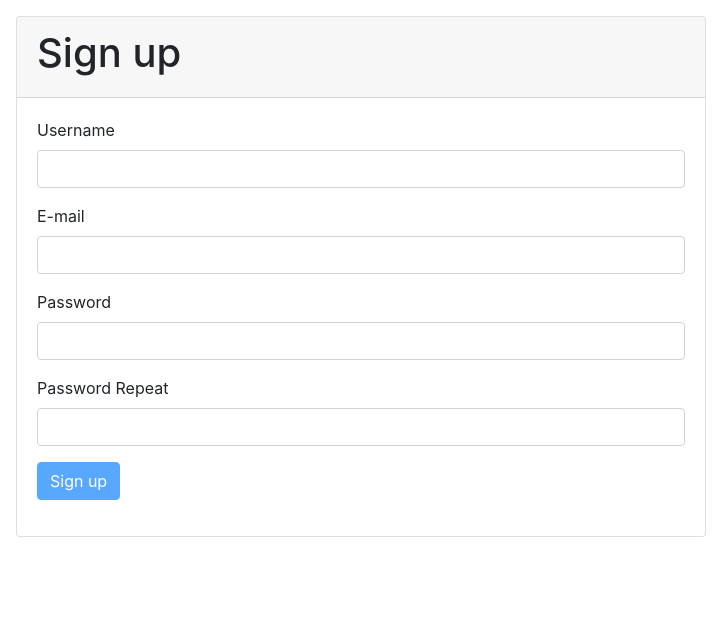
Test: Sign Up › when user sets same value for password inputs › when user submits form › when there is a network error › displays Unexpected error occurred, please try again
Type "test_user" into the field labelled "Username" at (361, 169), box [37,150,685,188]
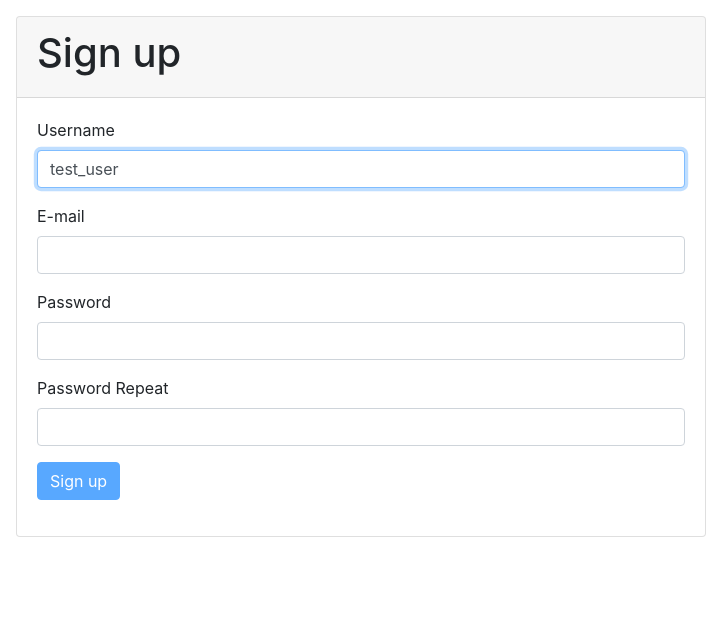
Type "text@example.com" into the field labelled "E-mail" at (361, 255), box [37,236,685,274]
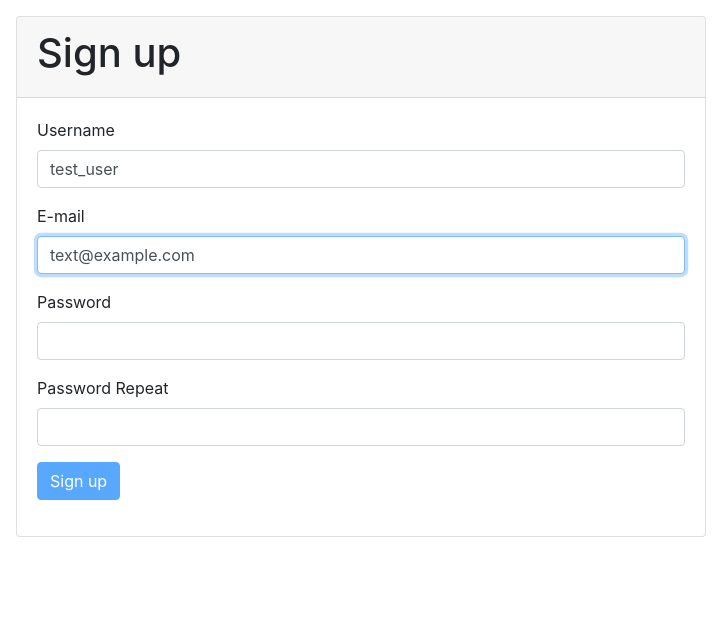
Type "asdf" into the password field labelled "Password" at (361, 341), box [37,322,685,360]
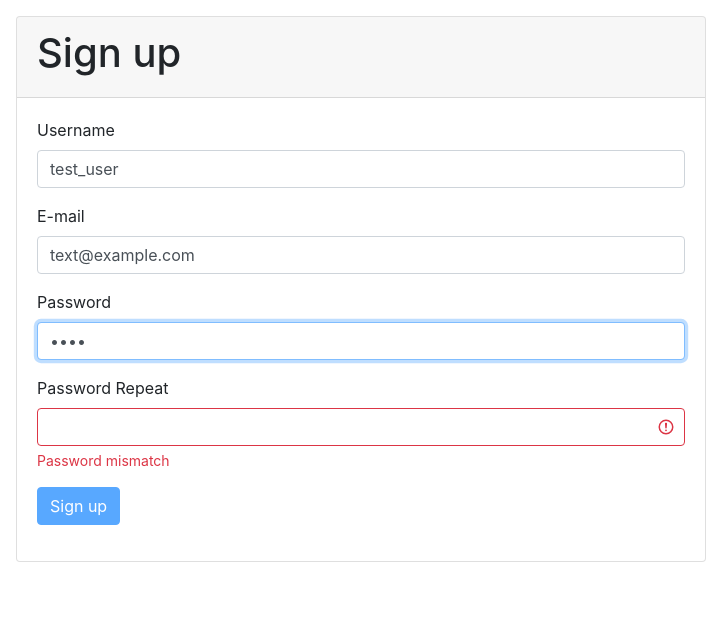
Type "asdf" into the password field labelled "Password Repeat" at (361, 427), box [37,408,685,446]
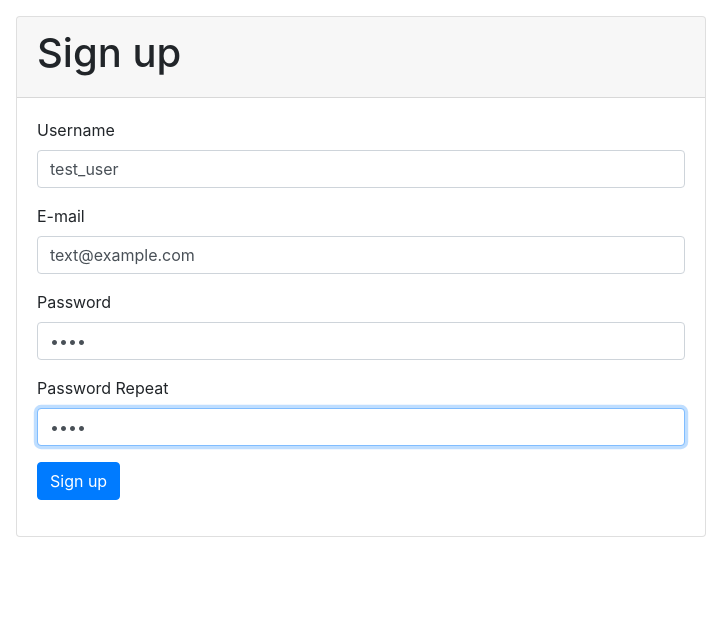
Click the button "Sign up" at (79, 481), box [37,462,120,500]
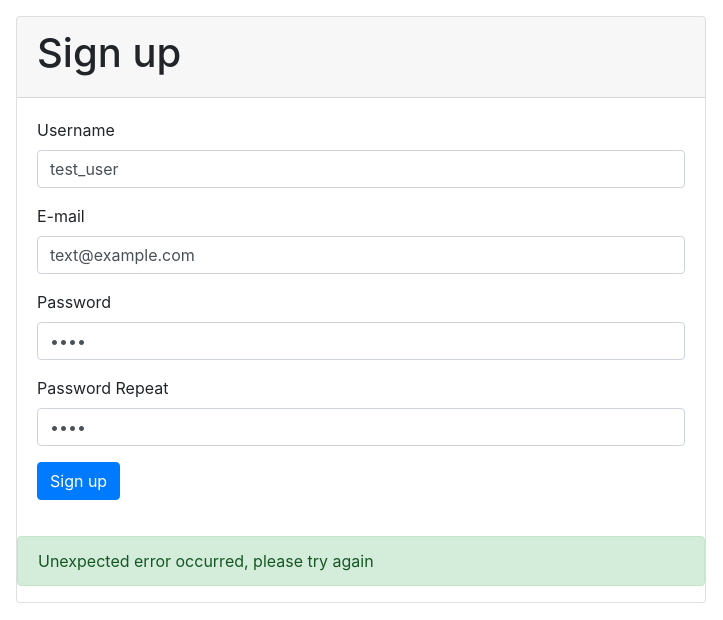
Check: the text "Unexpected error occurred, please try again" is shown, box [17,536,705,586]
